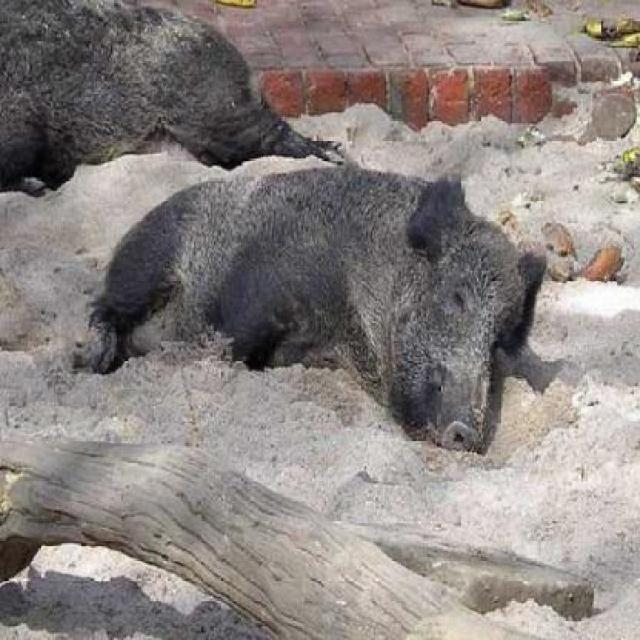pig: (58, 123, 594, 489)
